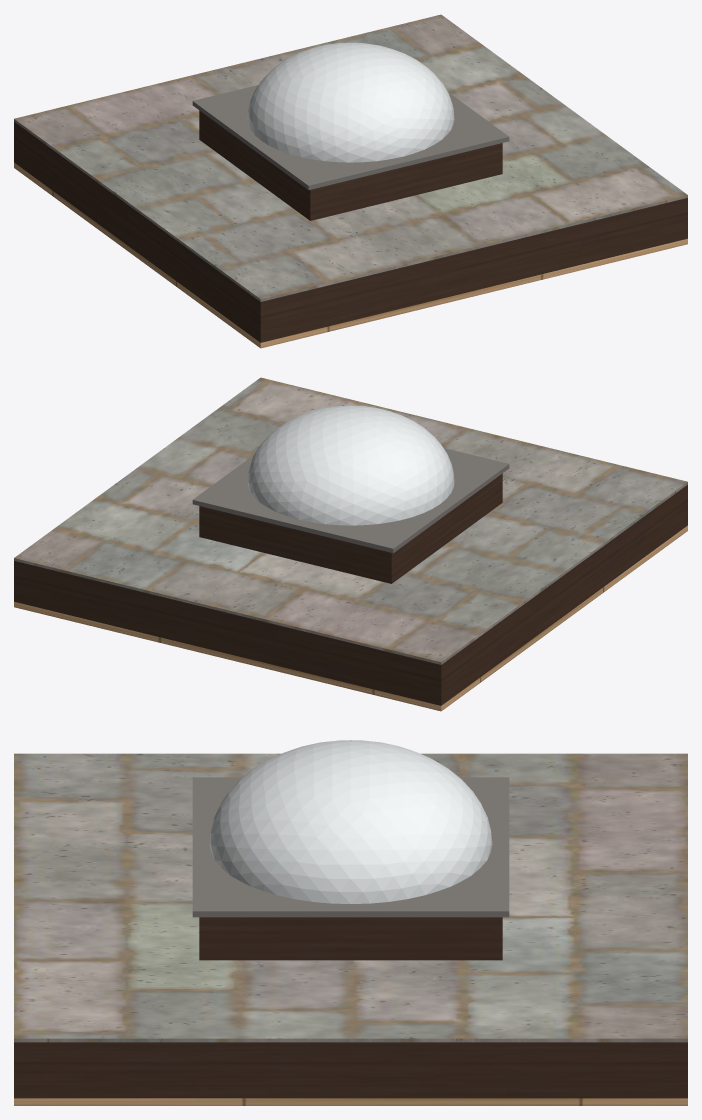
The model's file is deck_sky.glb.
3 renders of one model, top to bottom at view 1: azimuth 30°, elevation 25°; view 2: azimuth 150°, elevation 25°; view 3: azimuth 270°, elevation 25°, orthographic. The views are drawn at different scales.
Parts seen in each view (by area): view 1: deck_sky_roofdeck, deck_sky_fascia, deck_sky_dome, deck_sky_metal, deck_sky_ceiling; view 2: deck_sky_roofdeck, deck_sky_fascia, deck_sky_dome, deck_sky_metal, deck_sky_ceiling; view 3: deck_sky_roofdeck, deck_sky_fascia, deck_sky_dome, deck_sky_metal, deck_sky_ceiling.
Part boxes in pixels (x1,y1,x2,y2): deck_sky_roofdeck: [14, 14, 687, 301]; deck_sky_fascia: [14, 110, 687, 342]; deck_sky_dome: [247, 42, 454, 162]; deck_sky_metal: [192, 85, 509, 190]; deck_sky_ceiling: [14, 162, 687, 348]; deck_sky_roofdeck: [14, 377, 687, 664]; deck_sky_fascia: [14, 473, 687, 705]; deck_sky_dome: [247, 405, 454, 525]; deck_sky_metal: [192, 448, 509, 553]; deck_sky_ceiling: [14, 525, 687, 711]; deck_sky_roofdeck: [14, 753, 687, 1042]; deck_sky_fascia: [14, 917, 687, 1098]; deck_sky_dome: [209, 740, 492, 903]; deck_sky_metal: [192, 777, 509, 917]; deck_sky_ceiling: [14, 1098, 687, 1105].
Bounding box in the file's own units: 2 × 0.67 × 2.
Materials: 5 (3 with a texture image).
